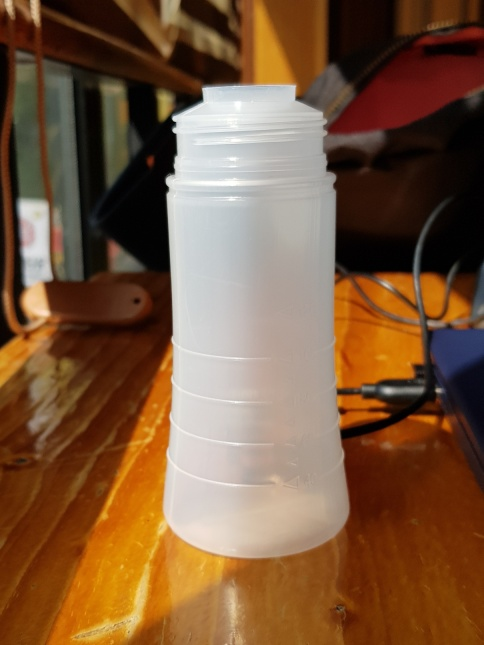Plastic: (160, 78, 355, 564)
